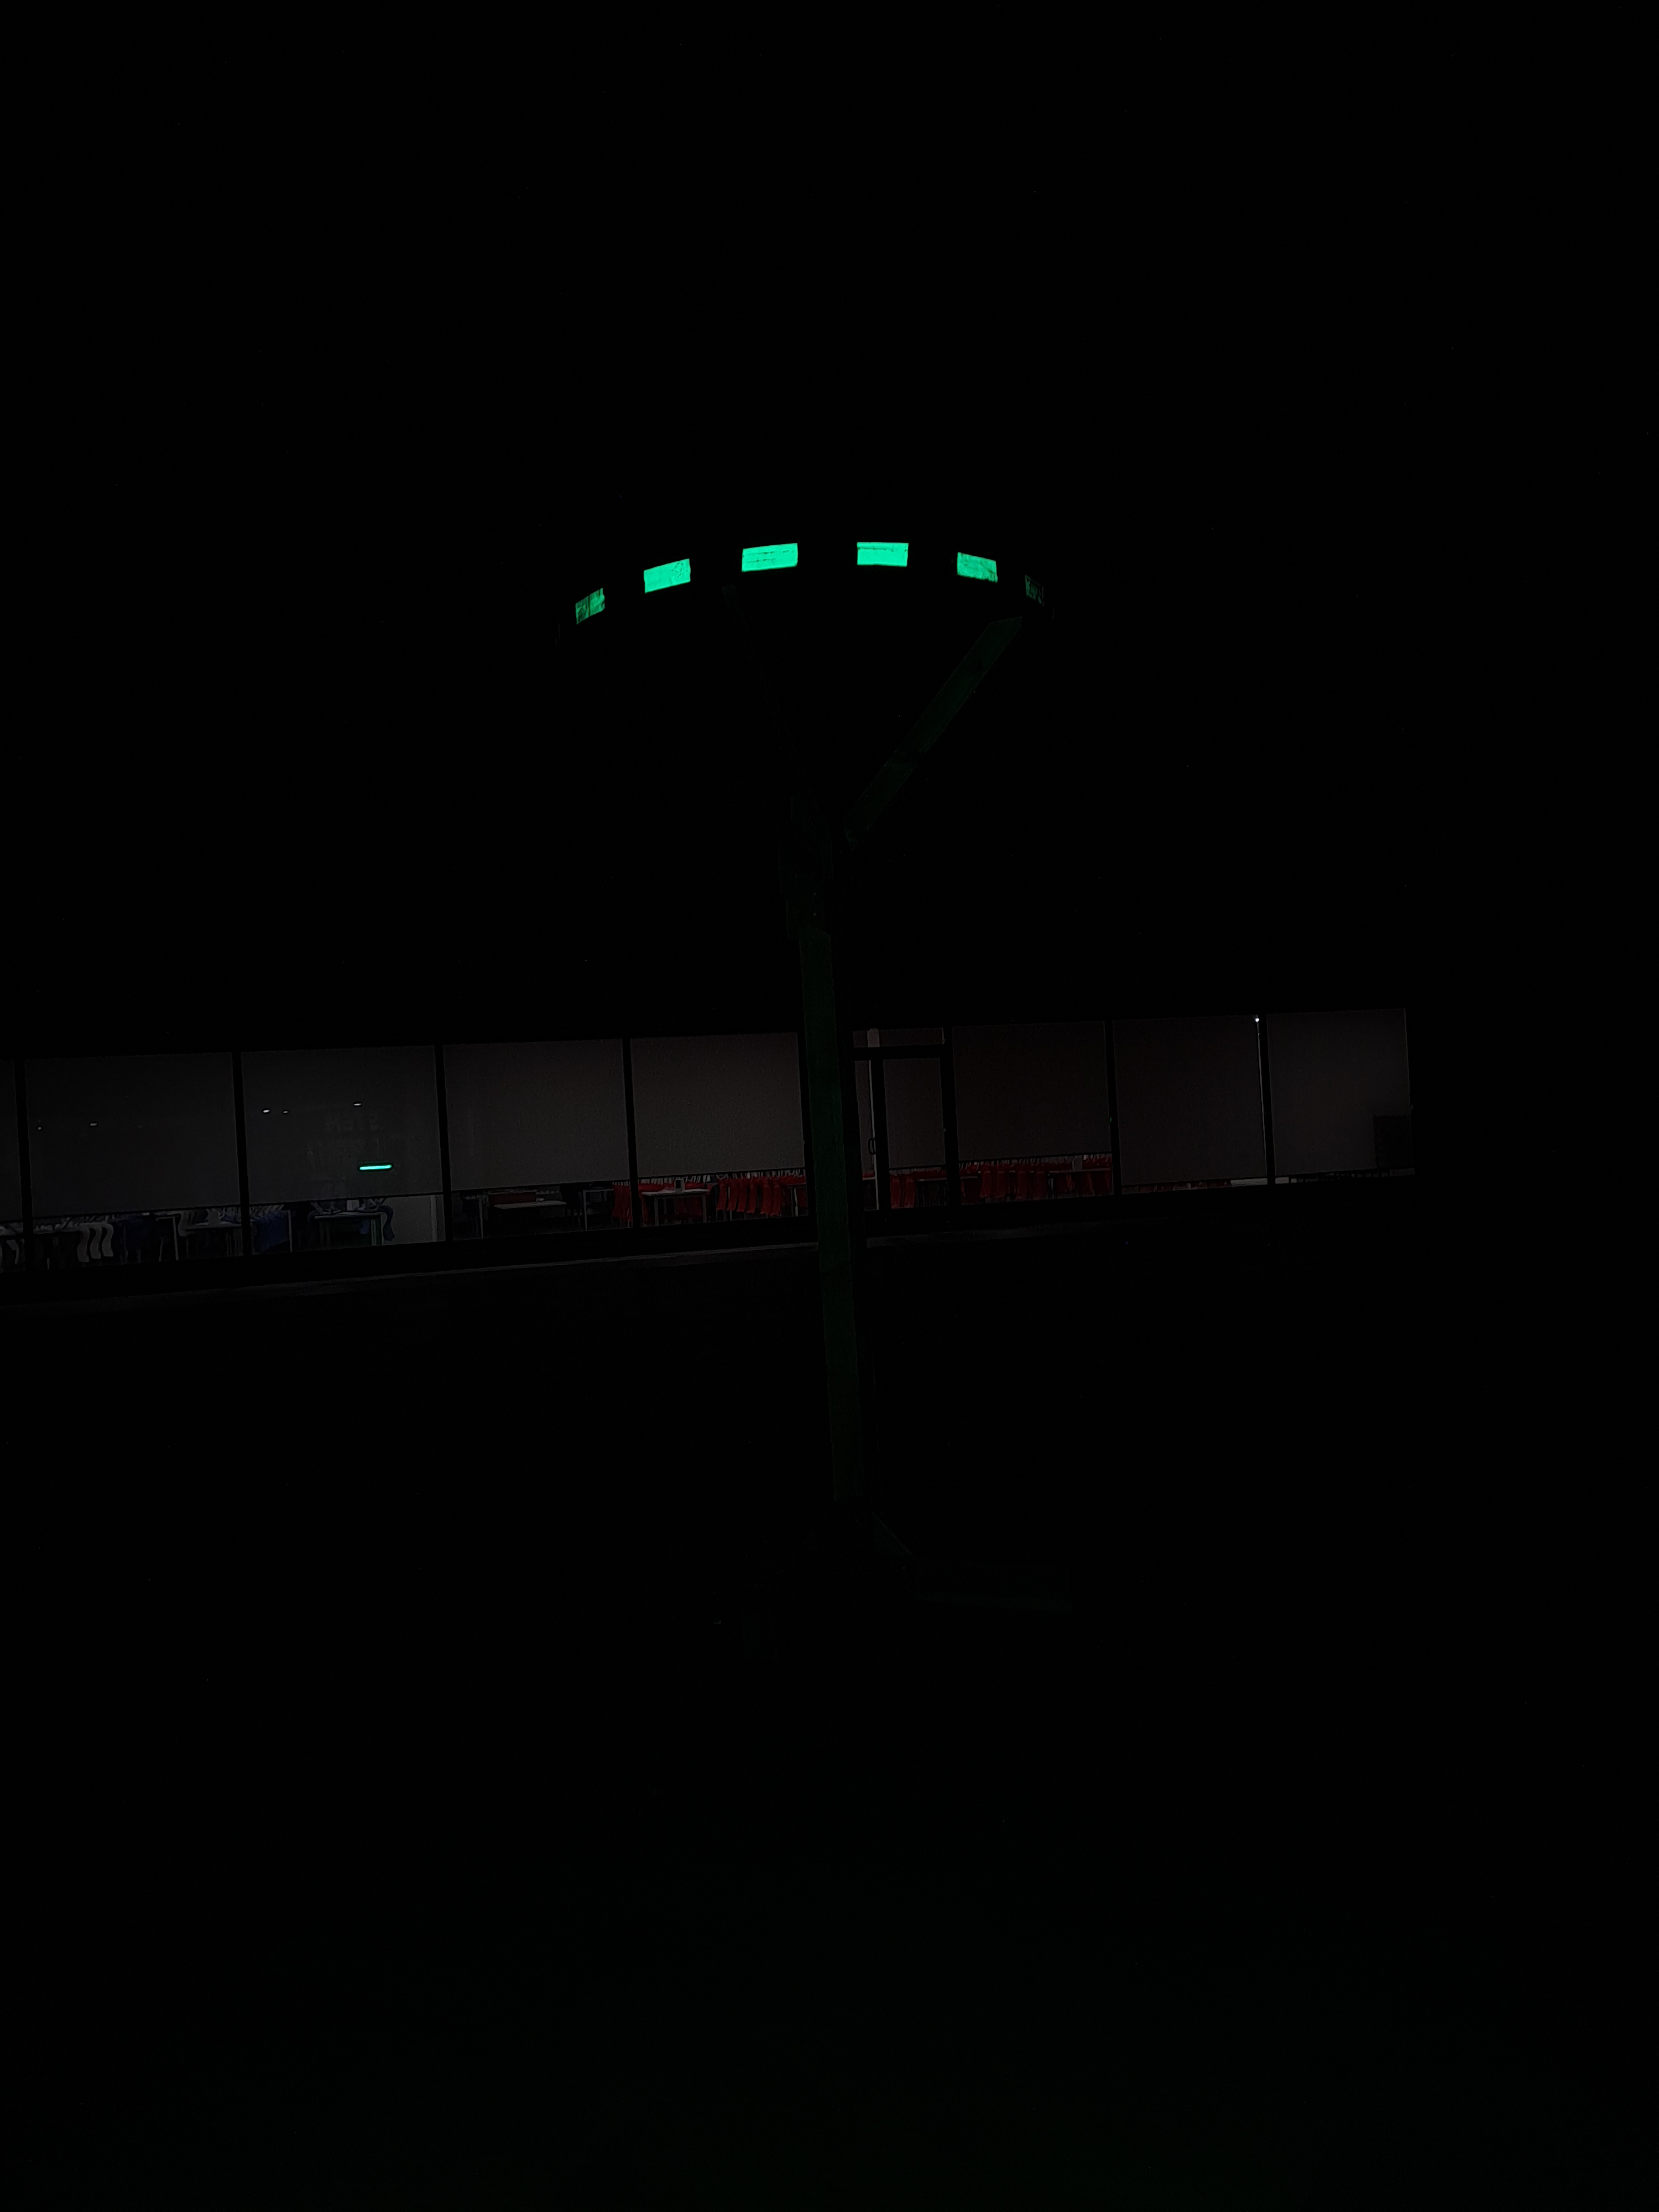hoop: (532, 538, 1061, 627)
